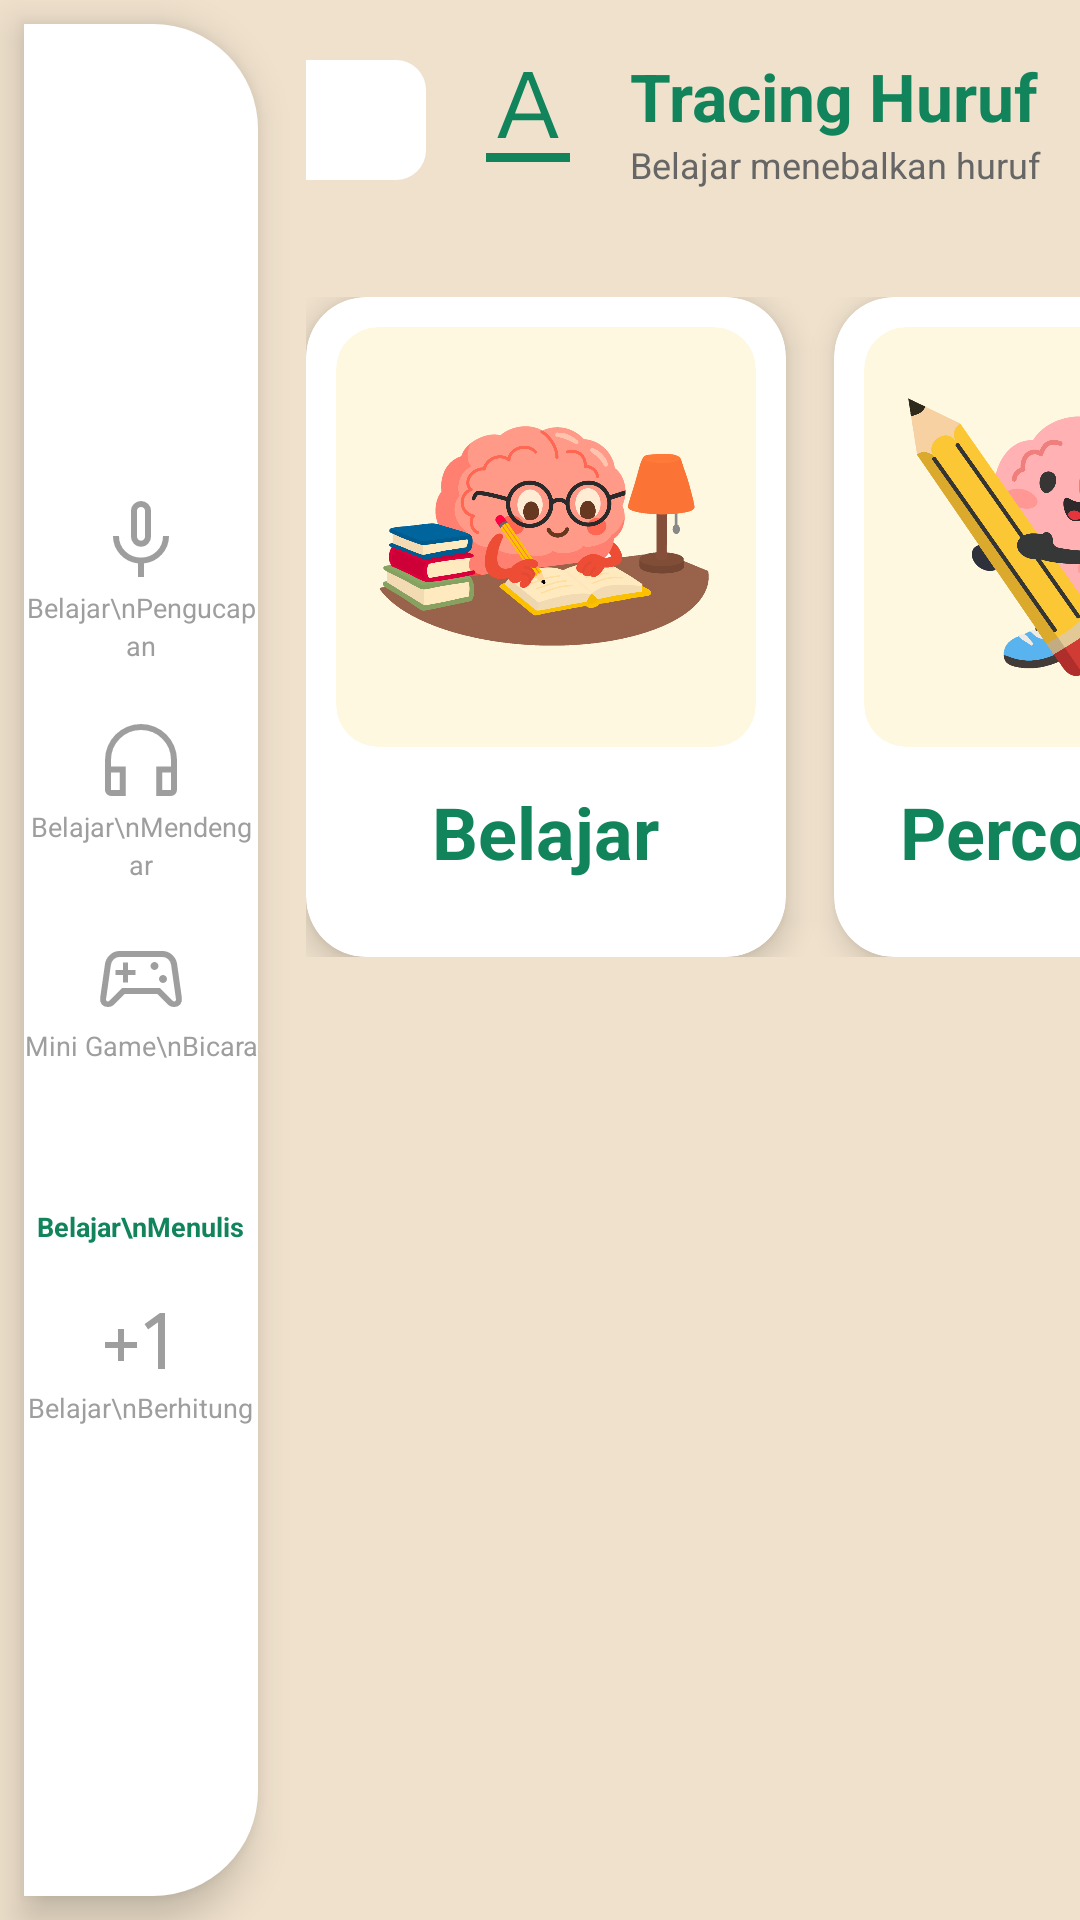

Where to tap for icons on this 1080px×1920px app screen, as point (x, y):
headset: point (141, 760)
mic: point (141, 539)
text: point (528, 117)
